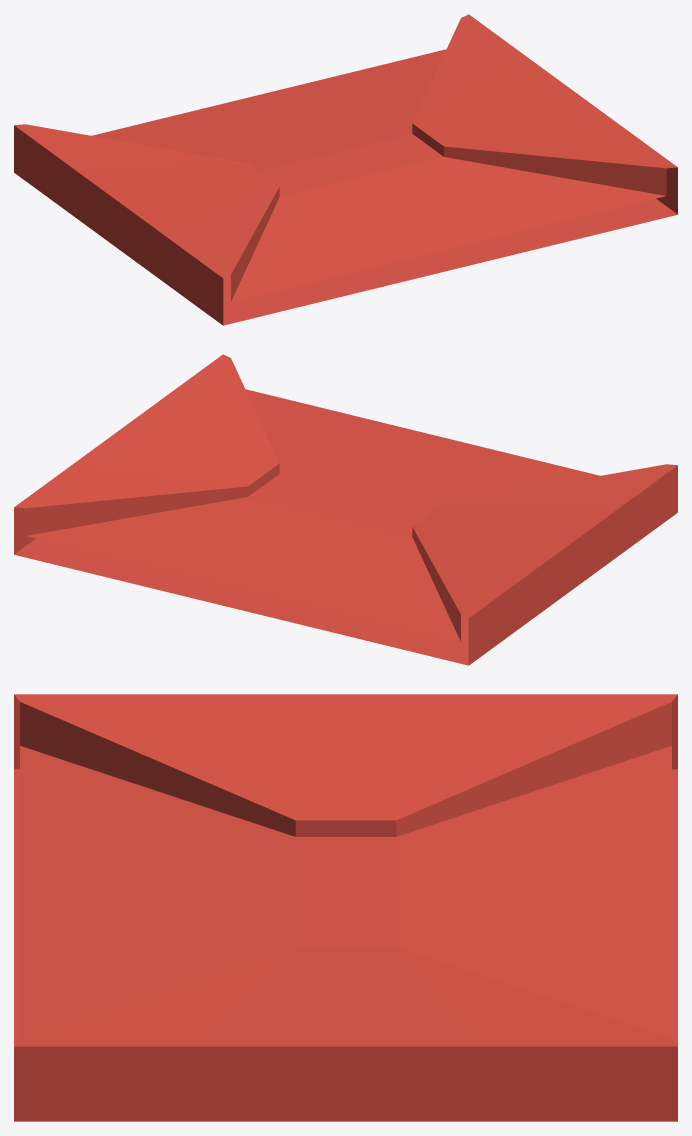
File: golfsquare_middle.glb
The picture shows the model from 3 angles, top to bottom: view 1: azimuth 30°, elevation 25°; view 2: azimuth 150°, elevation 25°; view 3: azimuth 270°, elevation 25°; orthographic projection. The views are drawn at different scales.
Visible parts, largest first — view 1: Cube; view 2: Cube; view 3: Cube.
Boxes of the visible parts, x1,y1,x2,y2 form: Cube: (14, 14, 677, 325); Cube: (14, 354, 677, 665); Cube: (14, 694, 677, 1121).
Size of the model in its own units: 13.16 by 1.31 by 10.48.
